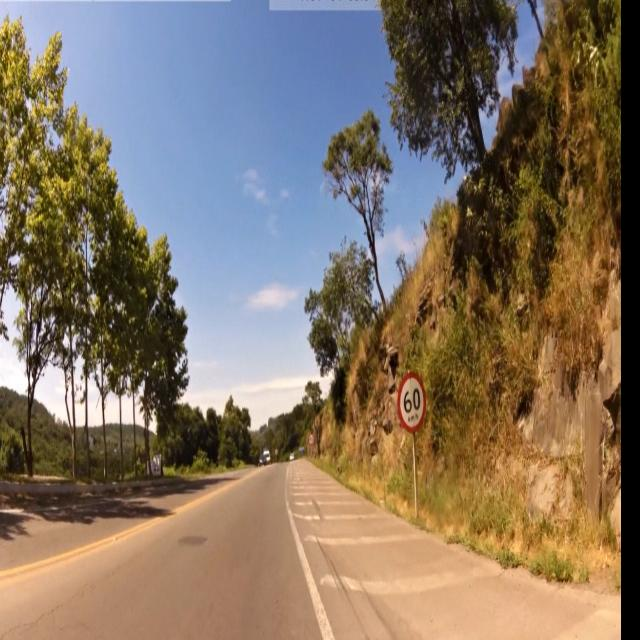R-19: (398, 370, 429, 436)
